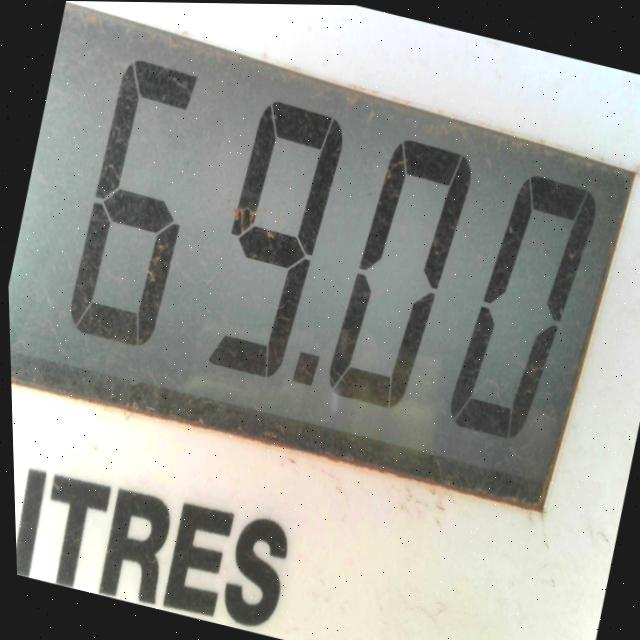.: (278, 331, 327, 394)
0: (424, 150, 605, 454), (311, 117, 483, 421)
6: (57, 51, 224, 357)
9: (191, 87, 346, 401)
